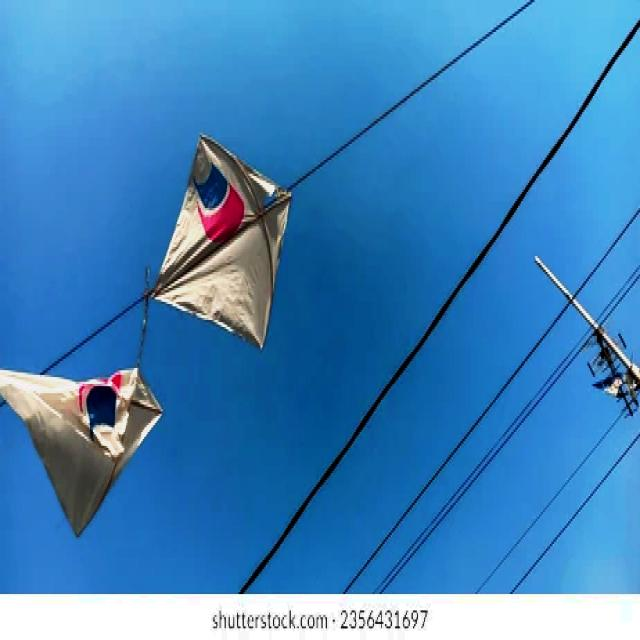obstruction: (144, 139, 290, 345), (0, 363, 161, 533)
poles: (537, 256, 639, 411)
wires: (240, 21, 639, 592), (342, 206, 639, 592), (373, 329, 639, 592), (288, 0, 535, 187), (507, 432, 639, 592), (40, 274, 151, 373), (600, 263, 639, 327)
